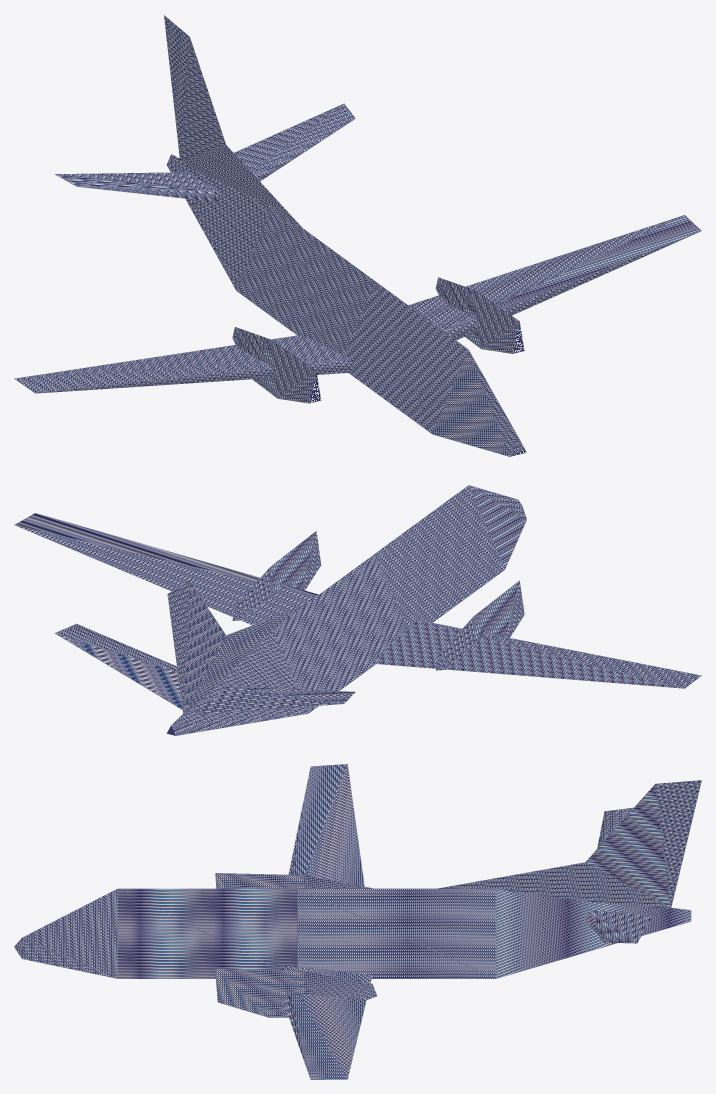
The model's file is TFS_Saab_340_MSFS_LOD1.gltf.
3 views of the same model, one above another, from view 1: azimuth 30°, elevation 25°; view 2: azimuth 150°, elevation 25°; view 3: azimuth 270°, elevation 25° (orthographic). The views are drawn at different scales.
Visible parts, largest first — view 1: node1; view 2: node1; view 3: node1.
Part boxes in pixels (bbox=[...]): node1: bbox=[14, 15, 701, 456]; node1: bbox=[14, 485, 701, 735]; node1: bbox=[14, 764, 701, 1079].
Size of the model in its own units: 21.43 by 5.87 by 19.74.
